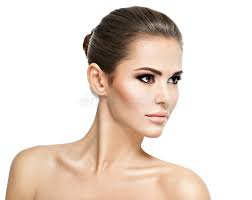white_female: (119, 28, 194, 162)
